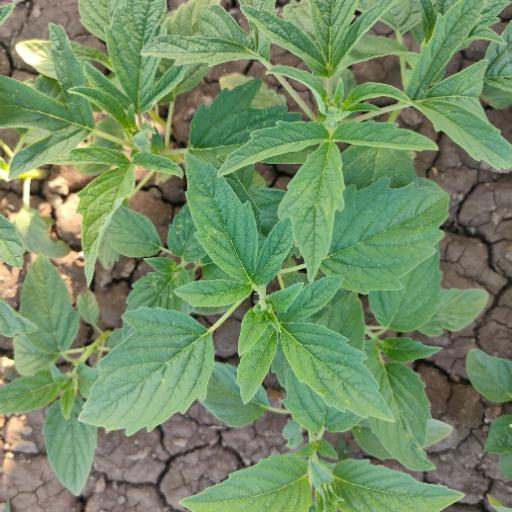crop: (16, 11, 500, 455)
